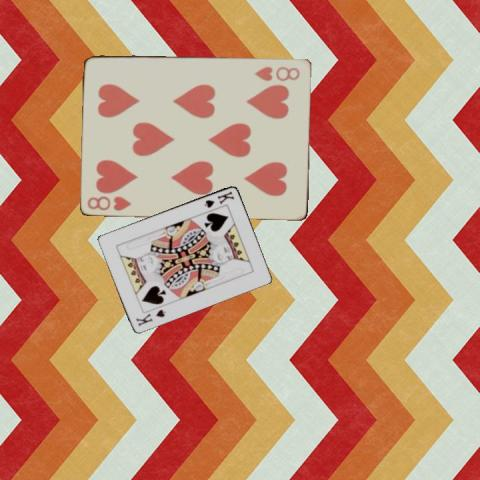8h: (251, 62, 302, 82), (84, 193, 132, 211)
Ks: (202, 188, 236, 209), (134, 306, 168, 327)
